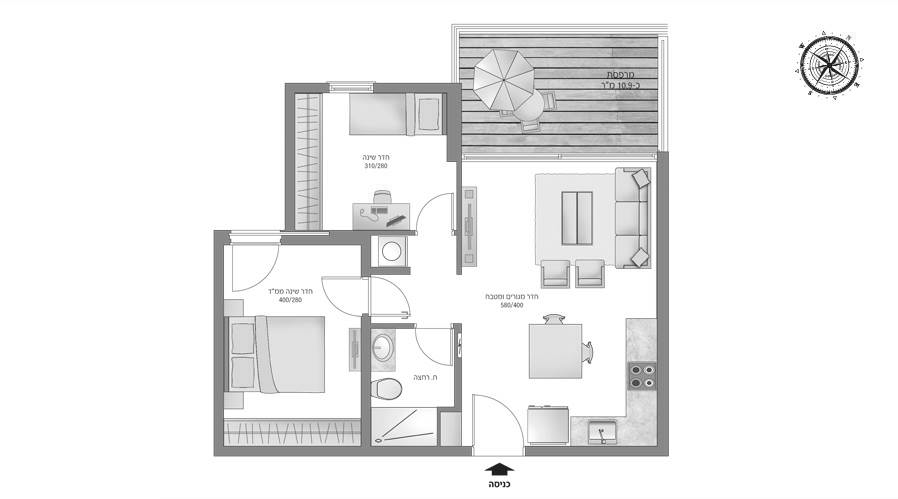wall: (656, 153, 668, 455), (211, 445, 472, 455), (213, 229, 224, 455), (283, 83, 295, 232), (360, 317, 371, 456), (447, 82, 462, 161), (373, 83, 462, 92), (455, 161, 462, 275), (284, 82, 329, 92)
